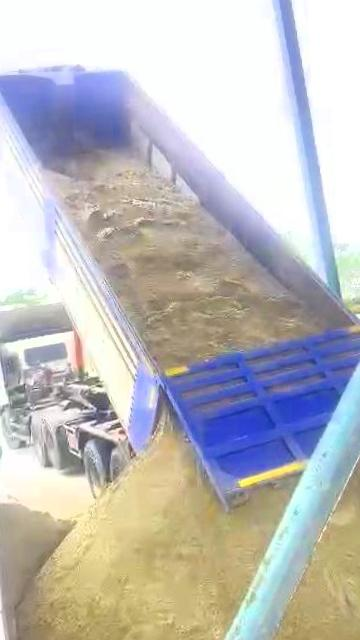sand: (49, 151, 328, 367), (19, 432, 293, 640), (253, 483, 360, 640), (0, 500, 72, 608), (357, 446, 360, 522)
